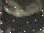with_mask: (1, 1, 44, 33)
